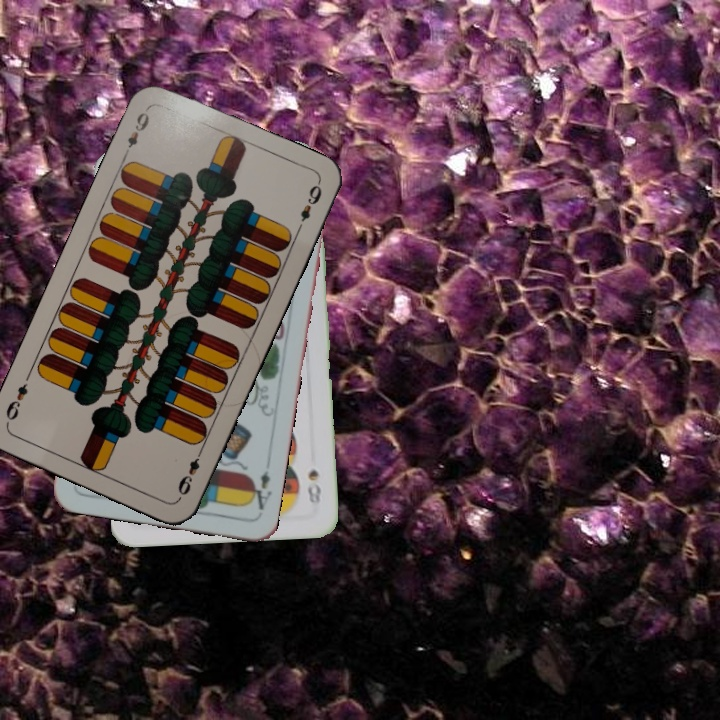E9: (119, 104, 152, 159), (174, 445, 205, 501)
EA: (245, 466, 274, 513)
S8: (303, 465, 323, 509)
